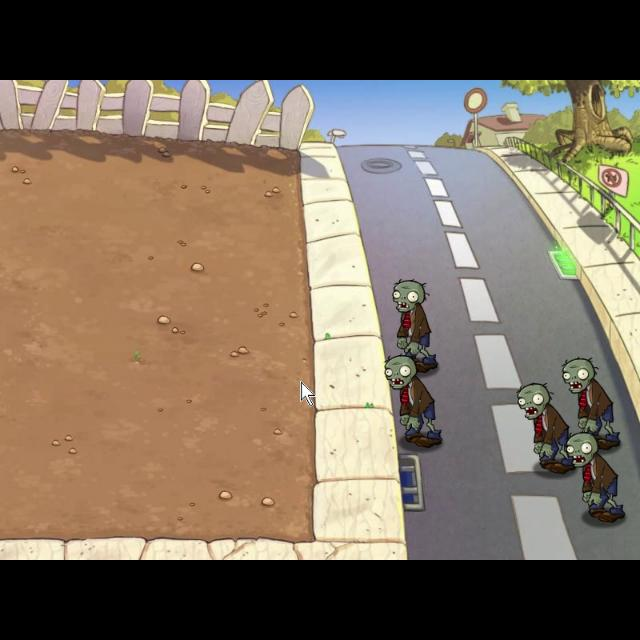Zombie: (558, 355, 628, 451), (562, 433, 630, 525), (512, 379, 576, 476), (381, 354, 444, 452), (388, 276, 442, 374)
